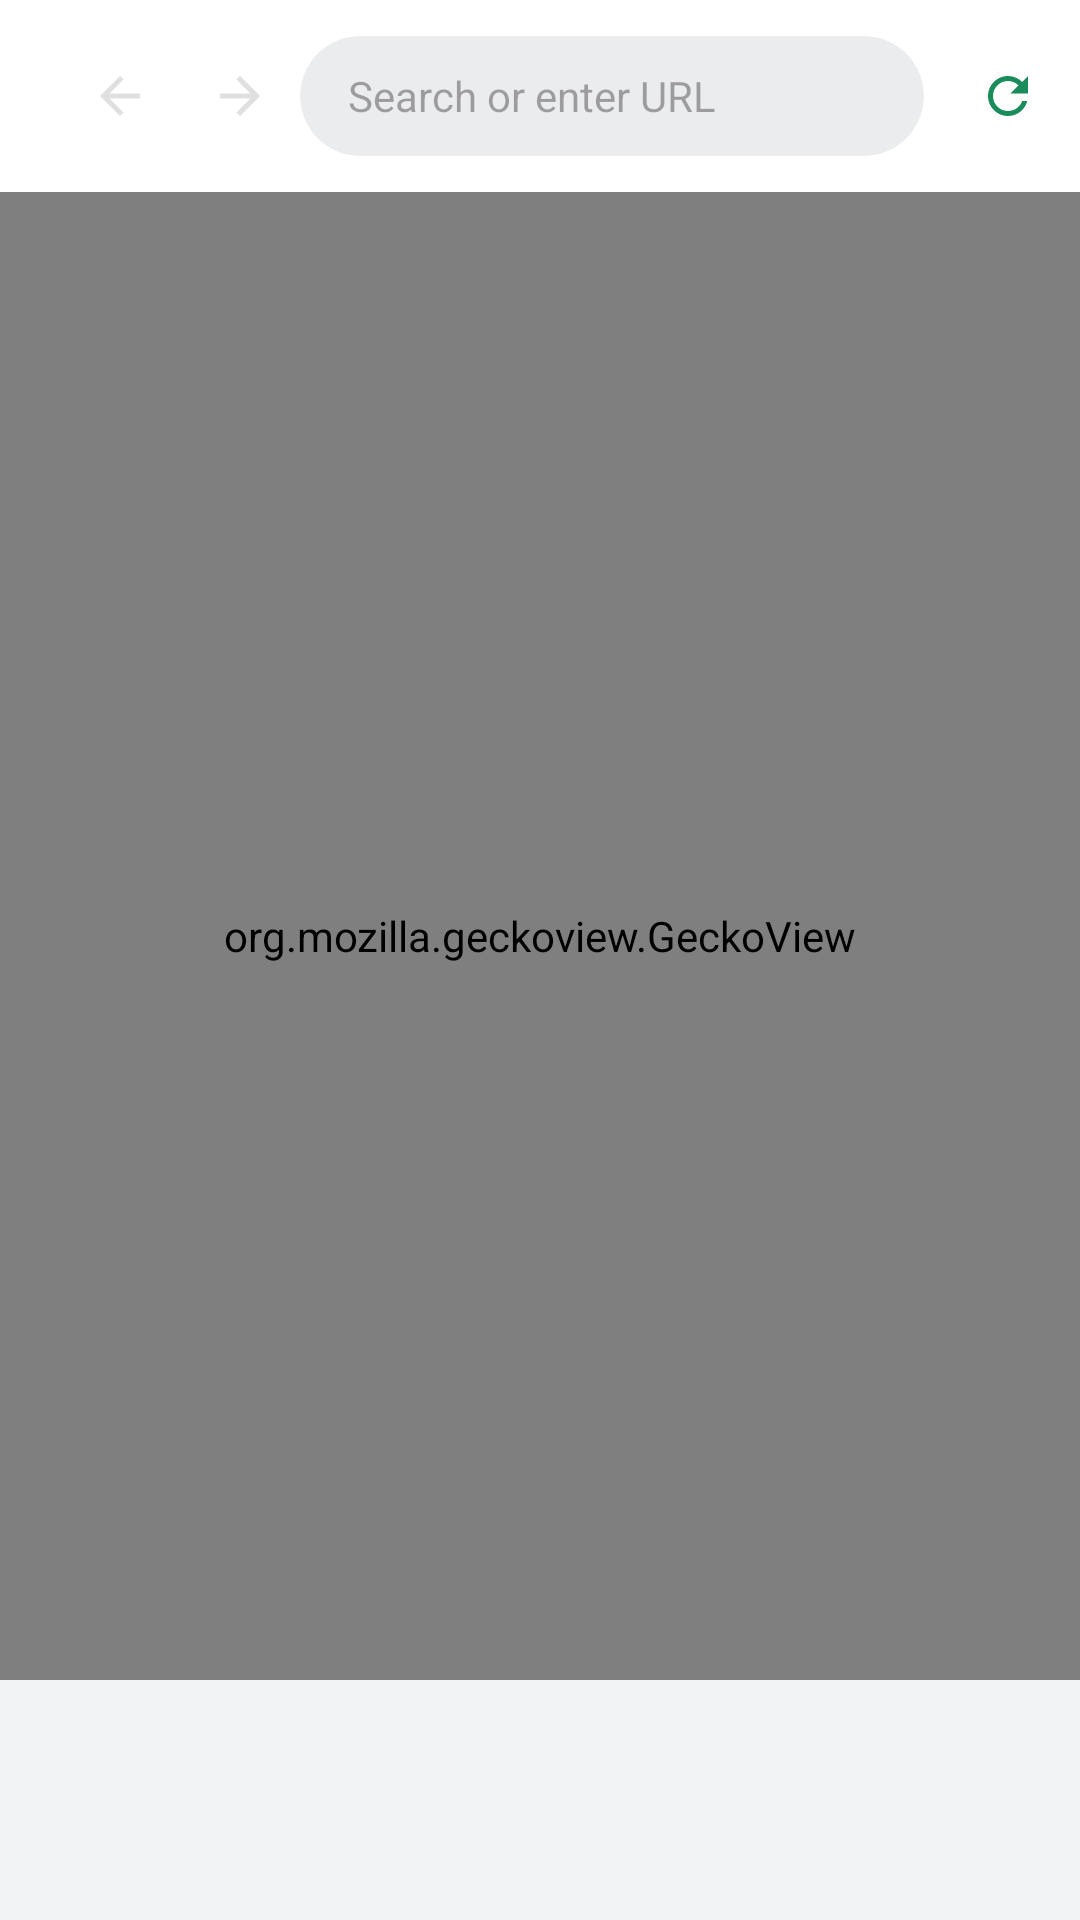

Icons on this 1080 x 1920 Android screen, each with its box as [x1,y1,x2,y2]:
arrow back: [101,77,140,115]
arrow forward: [220,77,259,115]
refresh: [988,76,1028,116]
